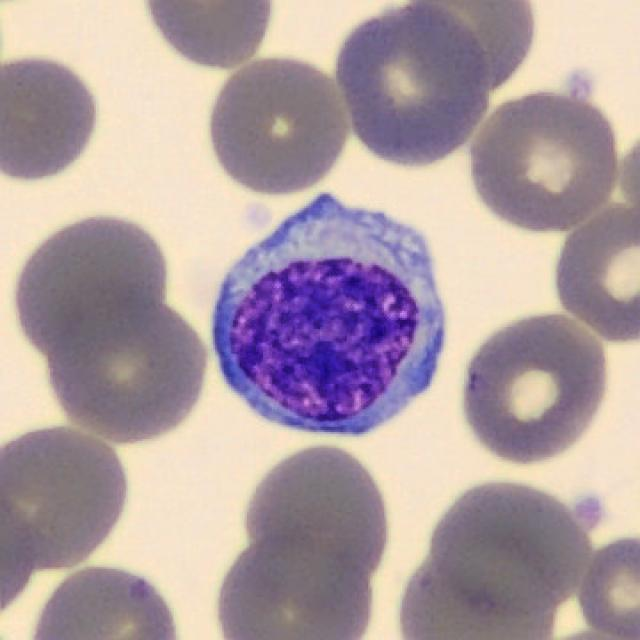Linfocito atipico: (212, 196, 446, 437)
